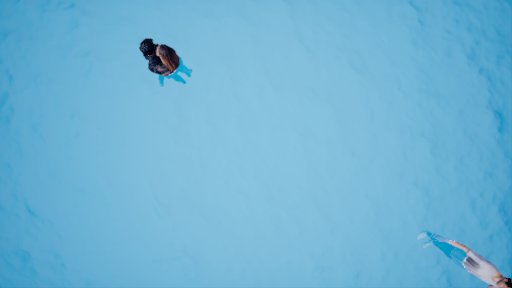person: (422, 227, 510, 288), (134, 39, 198, 92)
